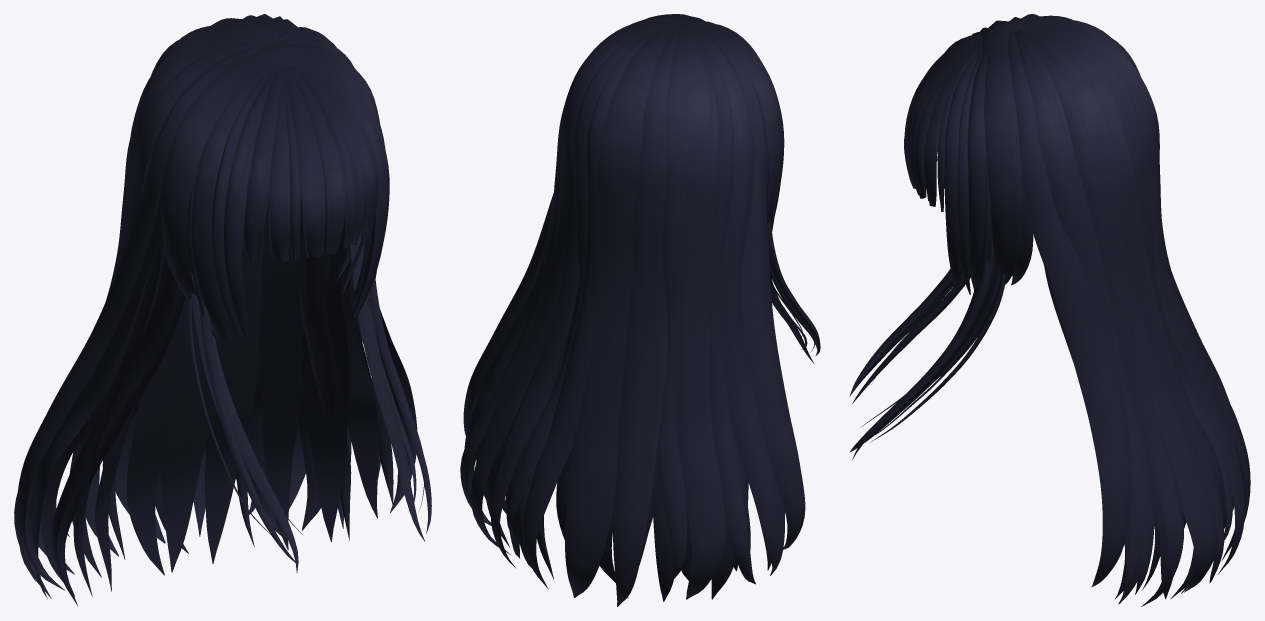
Rendered from vroid_hair_c17v2.glb.
The picture shows the model from 3 angles, left to right: view 1: azimuth 30°, elevation 25°; view 2: azimuth 150°, elevation 25°; view 3: azimuth 270°, elevation 25°; orthographic projection. The views are drawn at different scales.
Parts seen in each view (by area): view 1: hair; view 2: hair; view 3: hair.
Boxes of the visible parts, <box> form: hair: <box>14,14,431,605</box>; hair: <box>460,14,820,606</box>; hair: <box>849,14,1250,606</box>.
Size of the model in its own units: 0.385 by 0.5605 by 0.3805.
Materials: 1 (1 with a texture image).
